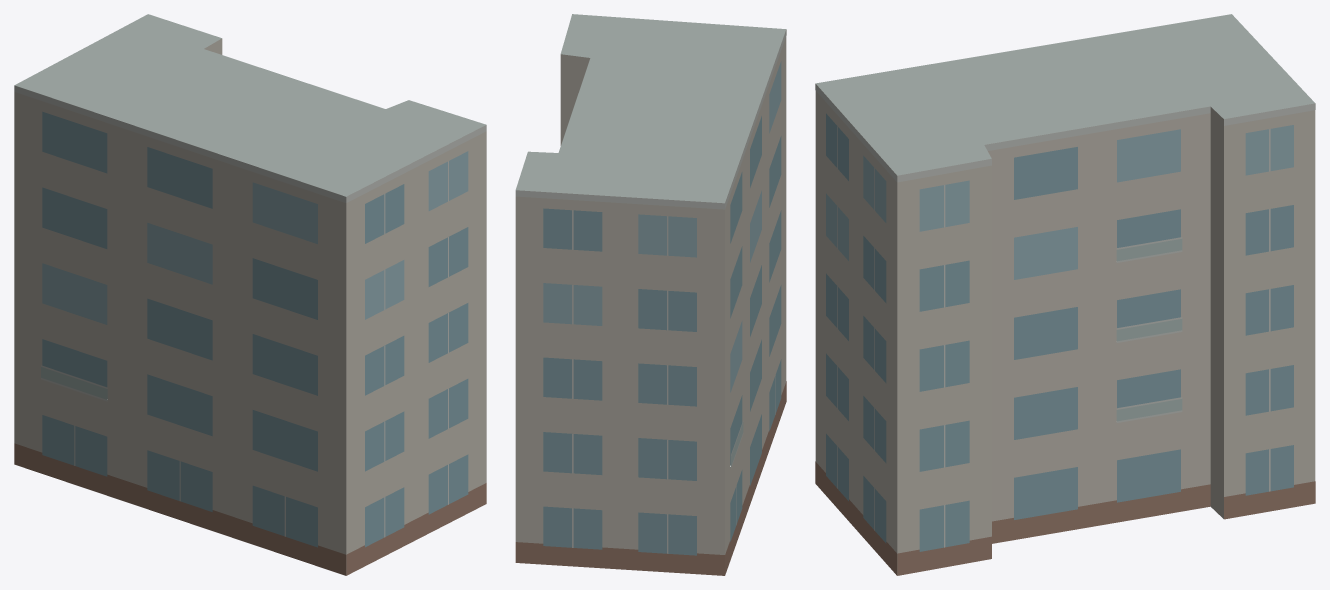
Rendered from survey-upis-32889167.glb.
3 renders of one model, left to right at view 1: azimuth 30°, elevation 25°; view 2: azimuth 150°, elevation 25°; view 3: azimuth 270°, elevation 25°, orthographic. The views are drawn at different scales.
Parts seen in each view (by area): view 1: survey-upis-32889167.tmp; view 2: survey-upis-32889167.tmp; view 3: survey-upis-32889167.tmp.
Boxes of the visible parts, x1,y1,x2,y2 form: survey-upis-32889167.tmp: [14, 14, 486, 575]; survey-upis-32889167.tmp: [515, 14, 786, 575]; survey-upis-32889167.tmp: [815, 14, 1315, 575].
Bounding box in the file's own units: 12.49 × 14.4 × 16.32.
